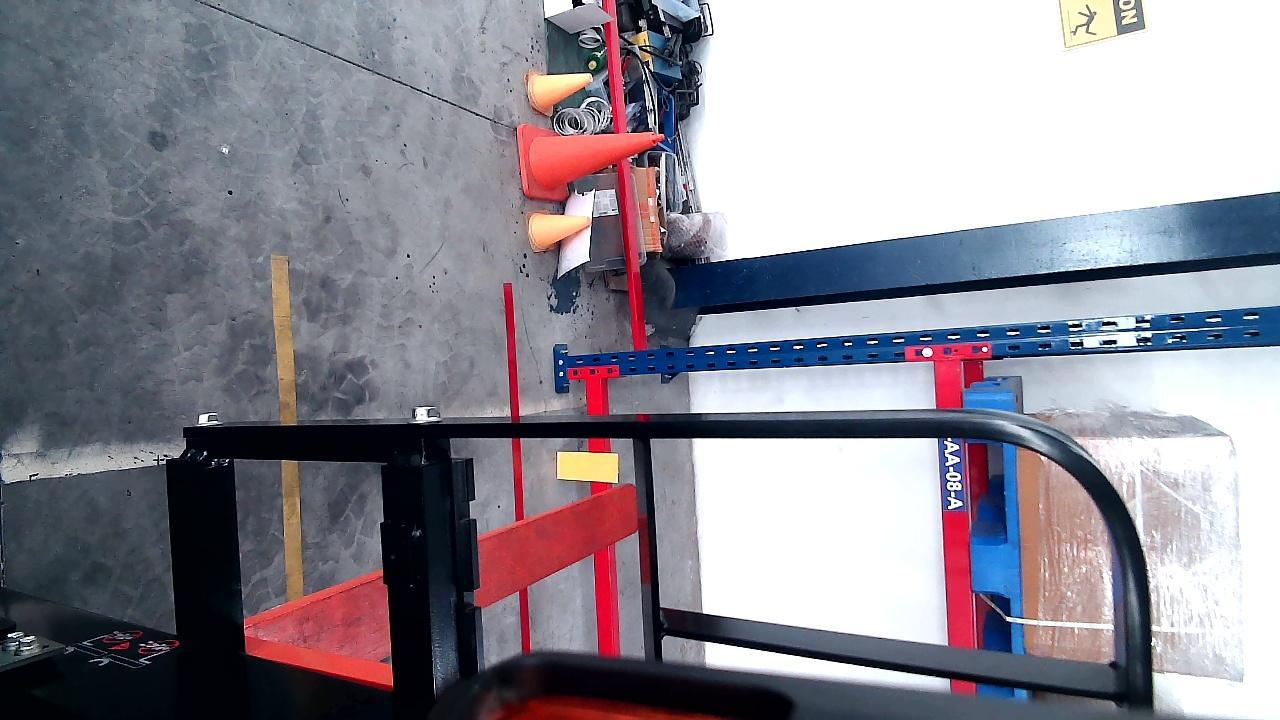red_line: (498, 282, 527, 653)
yellow_line: (272, 248, 307, 606)
